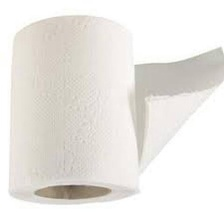tissue: (1, 9, 224, 213)
